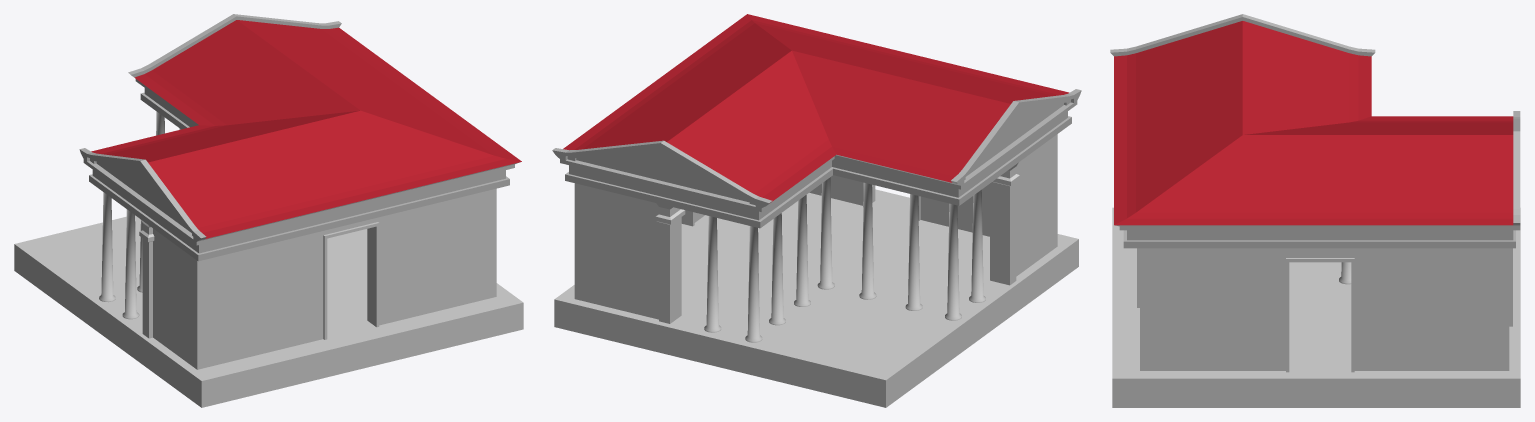
3 renders of one model, left to right at view 1: azimuth 30°, elevation 25°; view 2: azimuth 150°, elevation 25°; view 3: azimuth 270°, elevation 25°, orthographic. The views are drawn at different scales.
Parts seen in each view (by area): view 1: Plane_031, Plane_032, Plane_033, Cube_035, Circle_002_Circle_001, Circle_002_Circle_000; view 2: Plane_031, Plane_033, Plane_032, Cube_035, Cube_036, Circle_002_Circle_011, Circle_002_Circle_000, Circle_002_Circle_007, Circle_002_Circle_008, Circle_002_Circle_004, Circle_002_Circle_001, Circle_002_Circle_005 (+2 smaller); view 3: Plane_031, Plane_032, Plane_033.
Boxes of the visible parts, box(x1,y1,x2,y2) form: Plane_031: box(79, 14, 521, 261); Plane_032: box(153, 188, 496, 369); Plane_033: box(14, 215, 523, 407); Cube_035: box(139, 219, 154, 338); Circle_002_Circle_001: box(122, 209, 139, 319); Circle_002_Circle_000: box(99, 192, 115, 302); Plane_031: box(552, 14, 1081, 228); Plane_033: box(554, 189, 1078, 407); Plane_032: box(574, 134, 1057, 319); Cube_035: box(990, 162, 1019, 285); Cube_036: box(655, 203, 685, 323); Circle_002_Circle_011: box(859, 182, 876, 299); Circle_002_Circle_000: box(945, 203, 961, 320); Circle_002_Circle_007: box(745, 226, 762, 342); Circle_002_Circle_008: box(704, 216, 721, 332); Circle_002_Circle_004: box(905, 194, 922, 310); Circle_002_Circle_001: box(969, 190, 985, 302); Circle_002_Circle_005: box(817, 177, 834, 289); Plane_031: box(1110, 14, 1520, 248); Plane_032: box(1137, 248, 1509, 372); Plane_033: box(1112, 207, 1520, 407).
Size of the model in its own units: 37.04 by 22.11 by 37.08.
